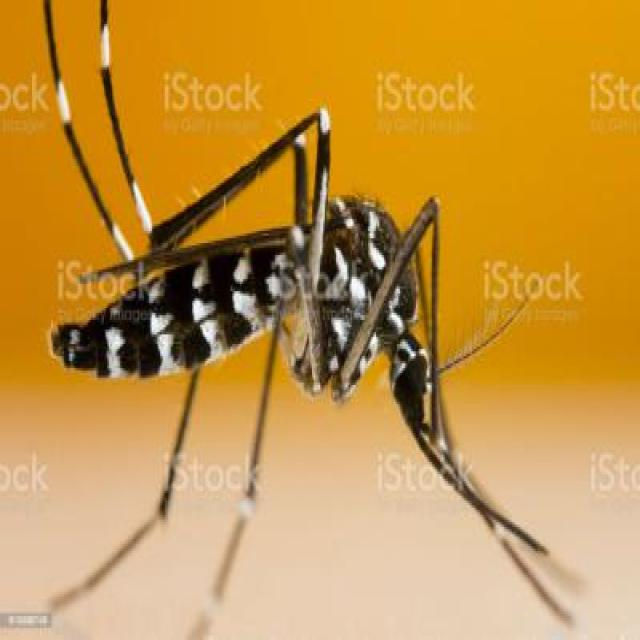antennae: (432, 283, 535, 386)
body: (47, 200, 431, 424)
insect: (33, 2, 580, 630)
legs: (352, 199, 570, 614), (42, 5, 338, 239), (41, 356, 279, 623)
mouthpart: (398, 391, 550, 559)
wings: (79, 218, 298, 291)
